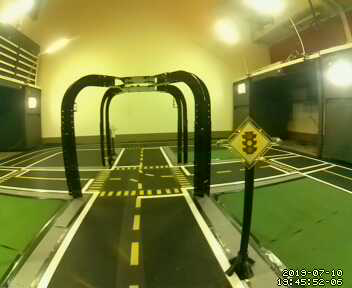Traffic light sign: (230, 117, 271, 167)
